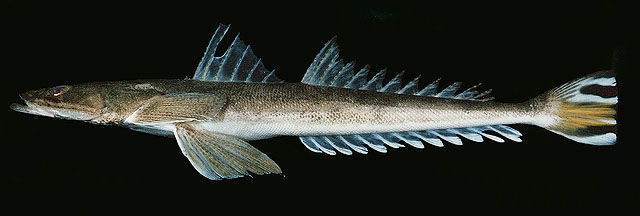fish: (10, 22, 619, 181)
